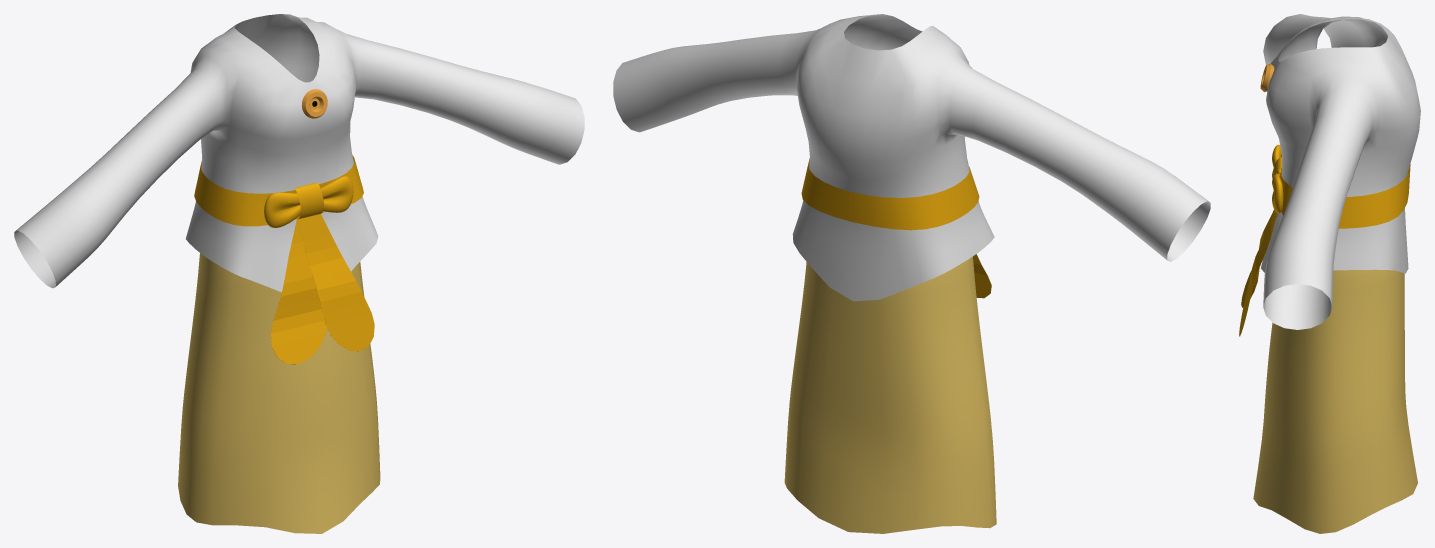
The model's file is kostum ulun danu.fbx.
The picture shows the model from 3 angles, left to right: view 1: azimuth 30°, elevation 25°; view 2: azimuth 150°, elevation 25°; view 3: azimuth 270°, elevation 25°; orthographic projection. The views are drawn at different scales.
Parts seen in each view (by area): view 1: Cube.001, Cube.002, Cylinder, Cube.006, Cube.008; view 2: Cube.001, Cube.002, Cube.006; view 3: Cube.001, Cube.002, Cube.006, Cylinder, Cube.008, Torus.002.
Part boxes in pixels (left/top/right/bottom): Cube.001: left=14, top=14, right=584, bottom=292; Cube.002: left=178, top=253, right=380, bottom=533; Cylinder: left=271, top=182, right=374, bottom=364; Cube.006: left=194, top=155, right=363, bottom=226; Cube.008: left=264, top=176, right=353, bottom=227; Cube.001: left=613, top=14, right=1210, bottom=301; Cube.002: left=784, top=257, right=996, bottom=533; Cube.006: left=801, top=158, right=979, bottom=230; Cube.001: left=1261, top=14, right=1420, bottom=329; Cube.002: left=1253, top=269, right=1417, bottom=533; Cube.006: left=1279, top=154, right=1410, bottom=228; Cylinder: left=1239, top=157, right=1282, bottom=336; Cube.008: left=1272, top=144, right=1283, bottom=213; Torus.002: left=1260, top=63, right=1274, bottom=92.
Size of the model in its own units: 342 by 278 by 98.46.
